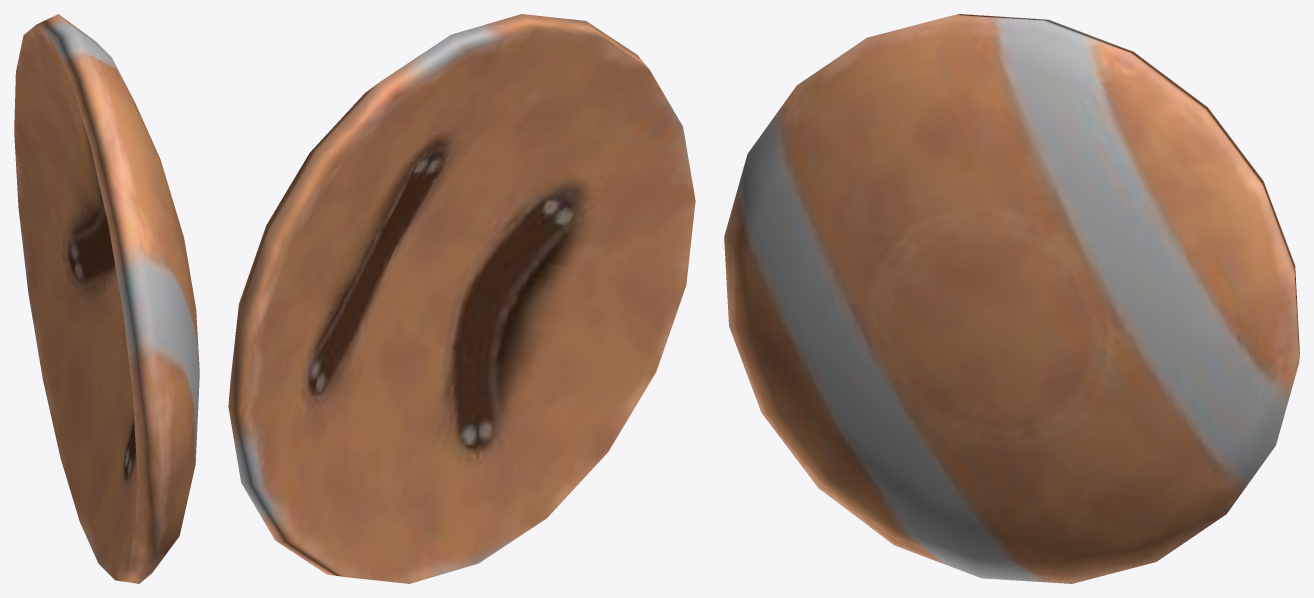
File: rider-shield-slice-coppershields.glb
3 views of the same model, side by side, from view 1: azimuth 30°, elevation 25°; view 2: azimuth 150°, elevation 25°; view 3: azimuth 270°, elevation 25° (orthographic). The views are drawn at different scales.
Bounding box in the file's own units: 0.1647 × 0.4201 × 0.4003.
1 material, 1 textured.
